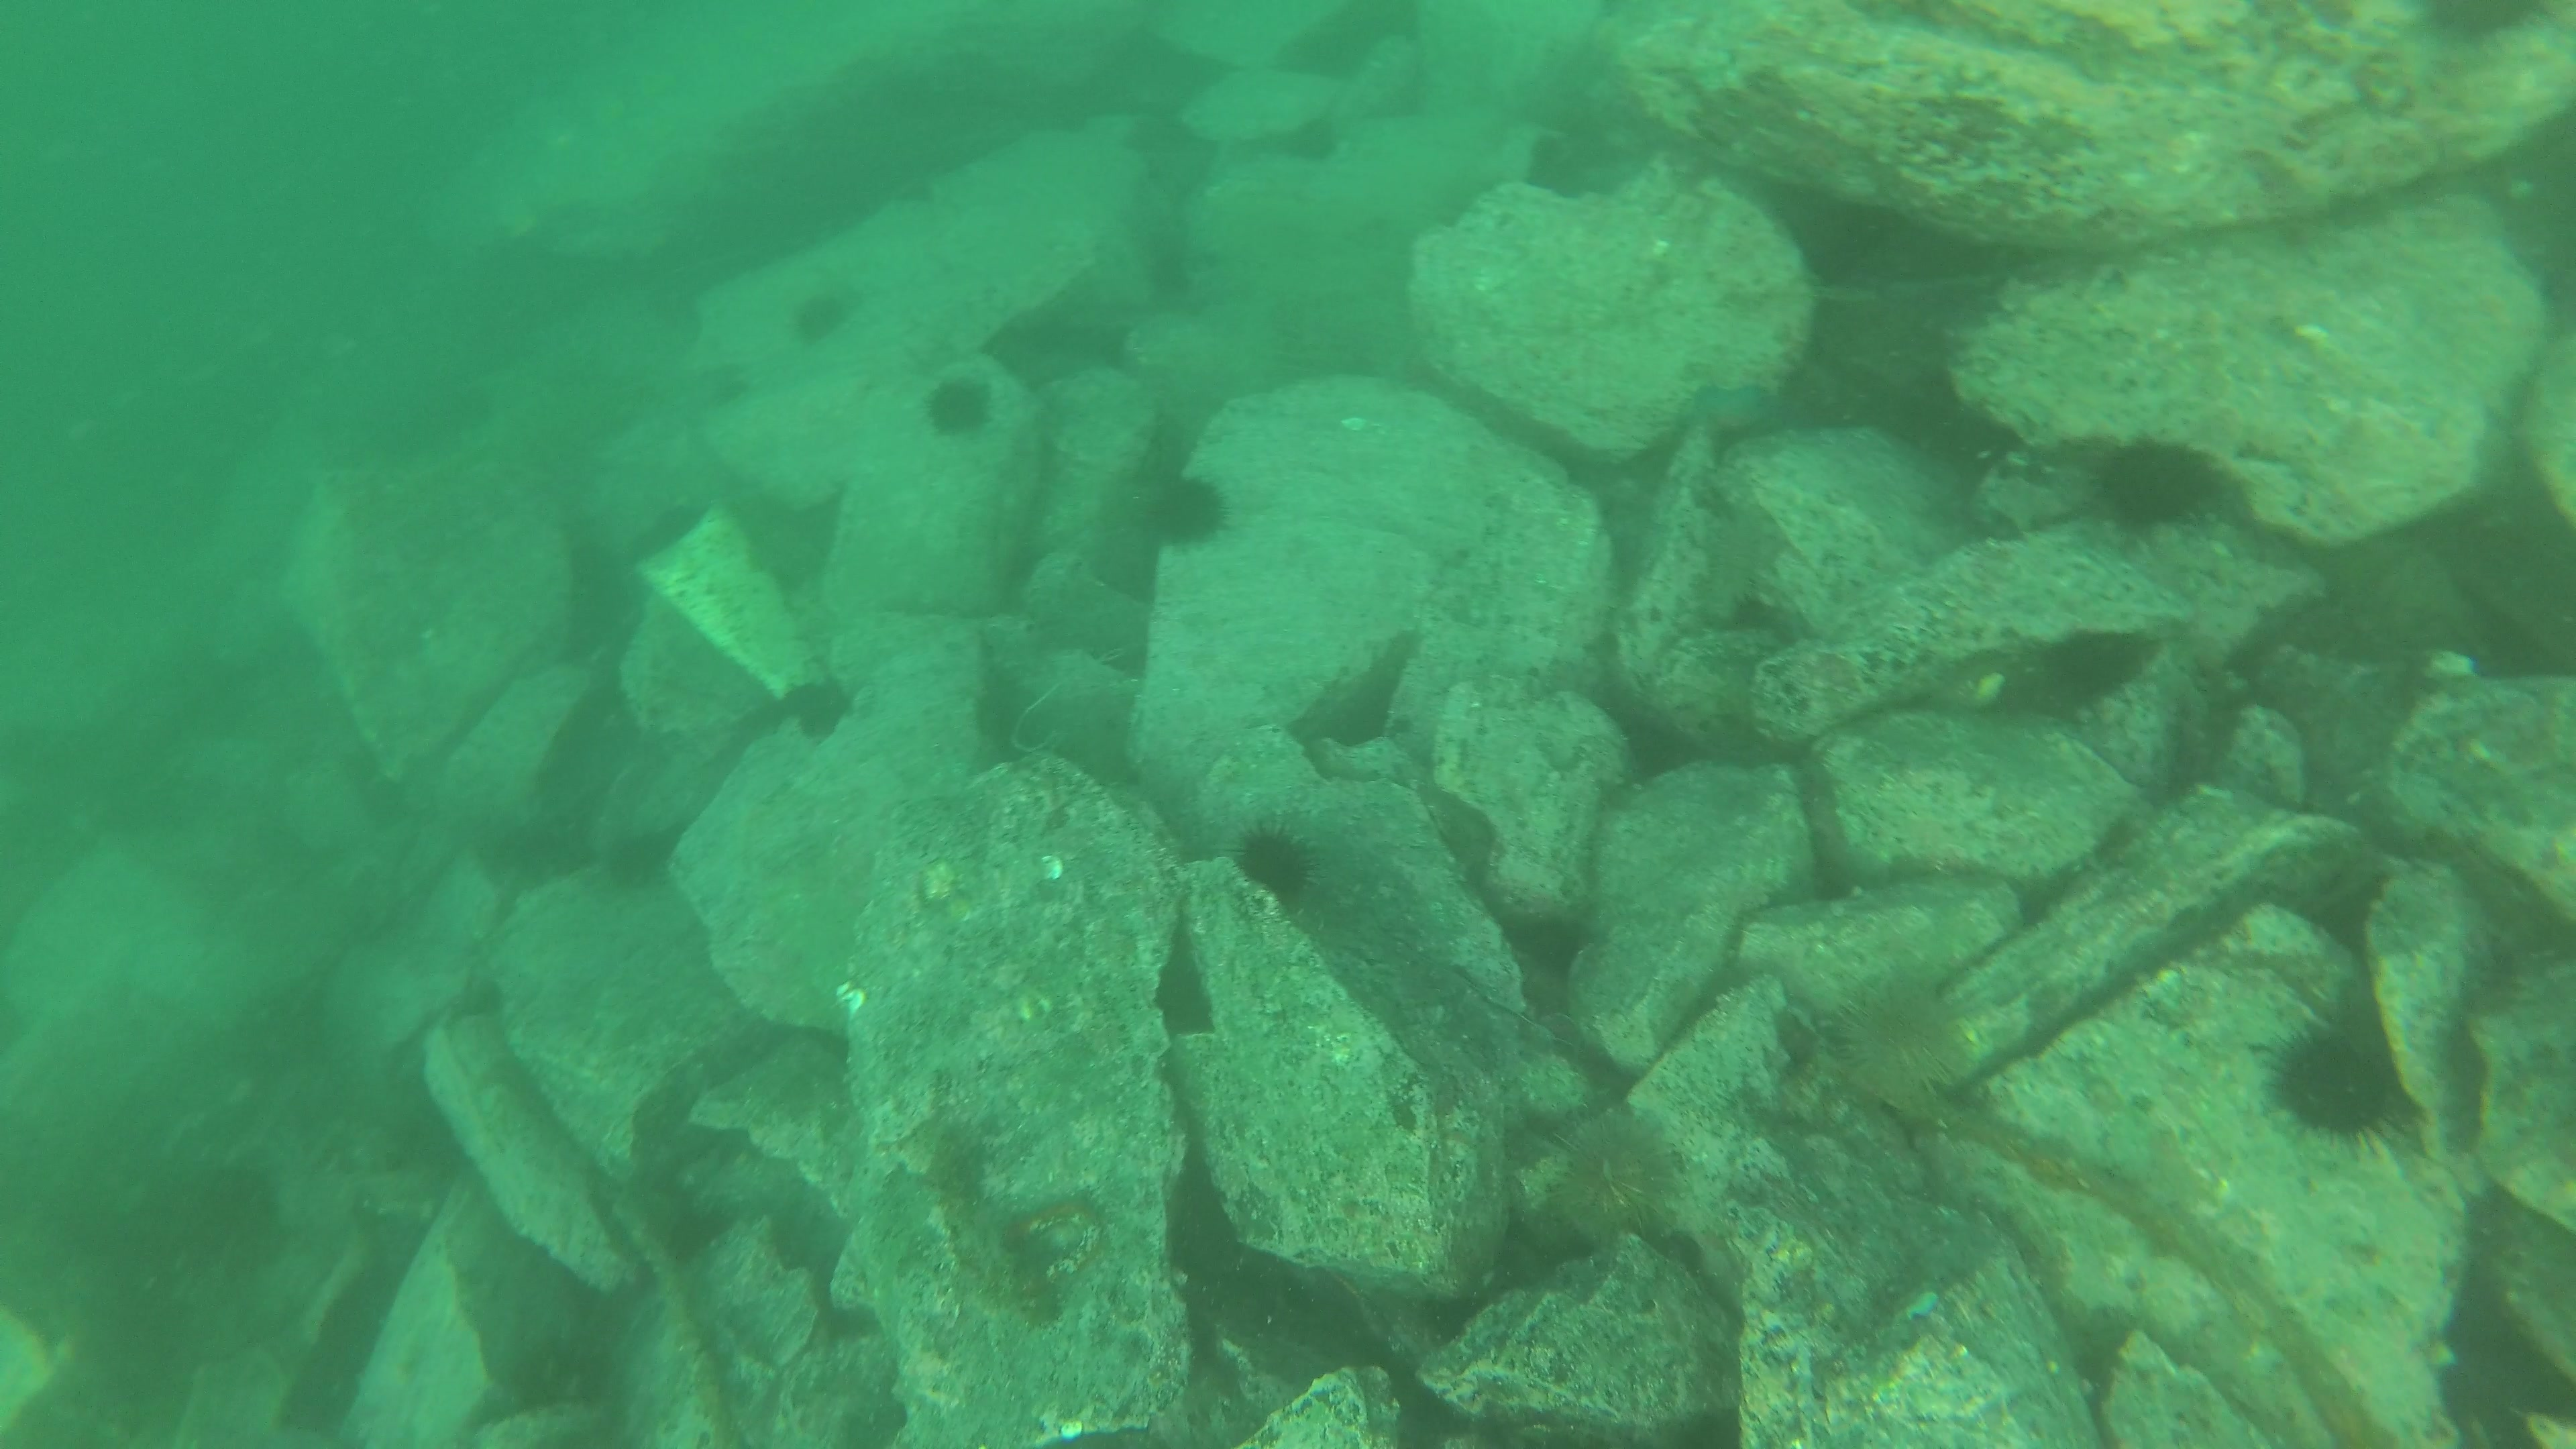echinus: (2279, 994, 2424, 1143), (2097, 433, 2219, 534), (1231, 821, 1320, 901), (786, 674, 863, 743), (1152, 476, 1221, 548), (927, 379, 994, 435)
